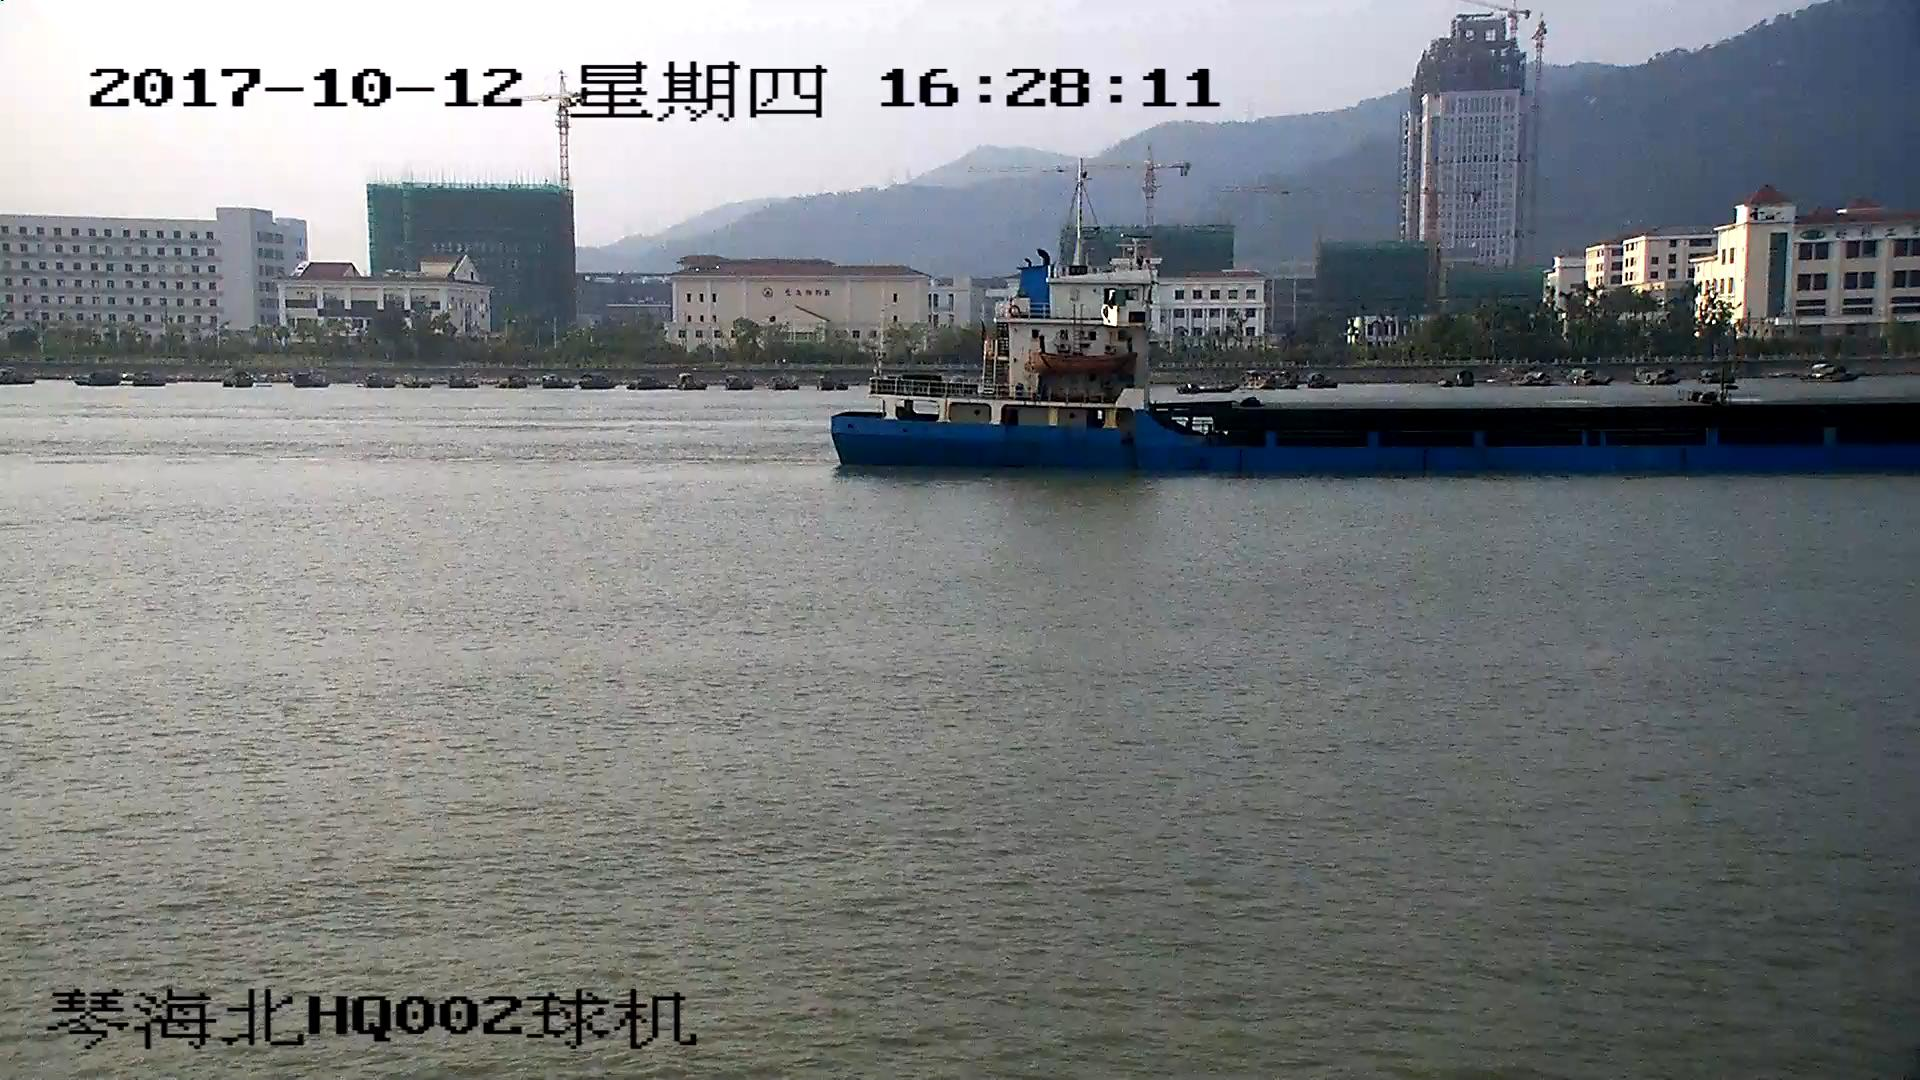general cargo ship: (823, 165, 1920, 483)
